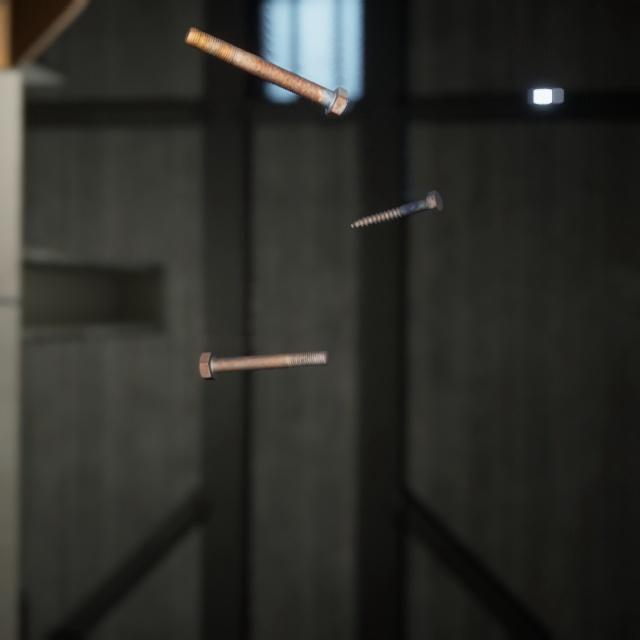bolt: (179, 12, 353, 111), (194, 326, 334, 365), (346, 171, 447, 218)
